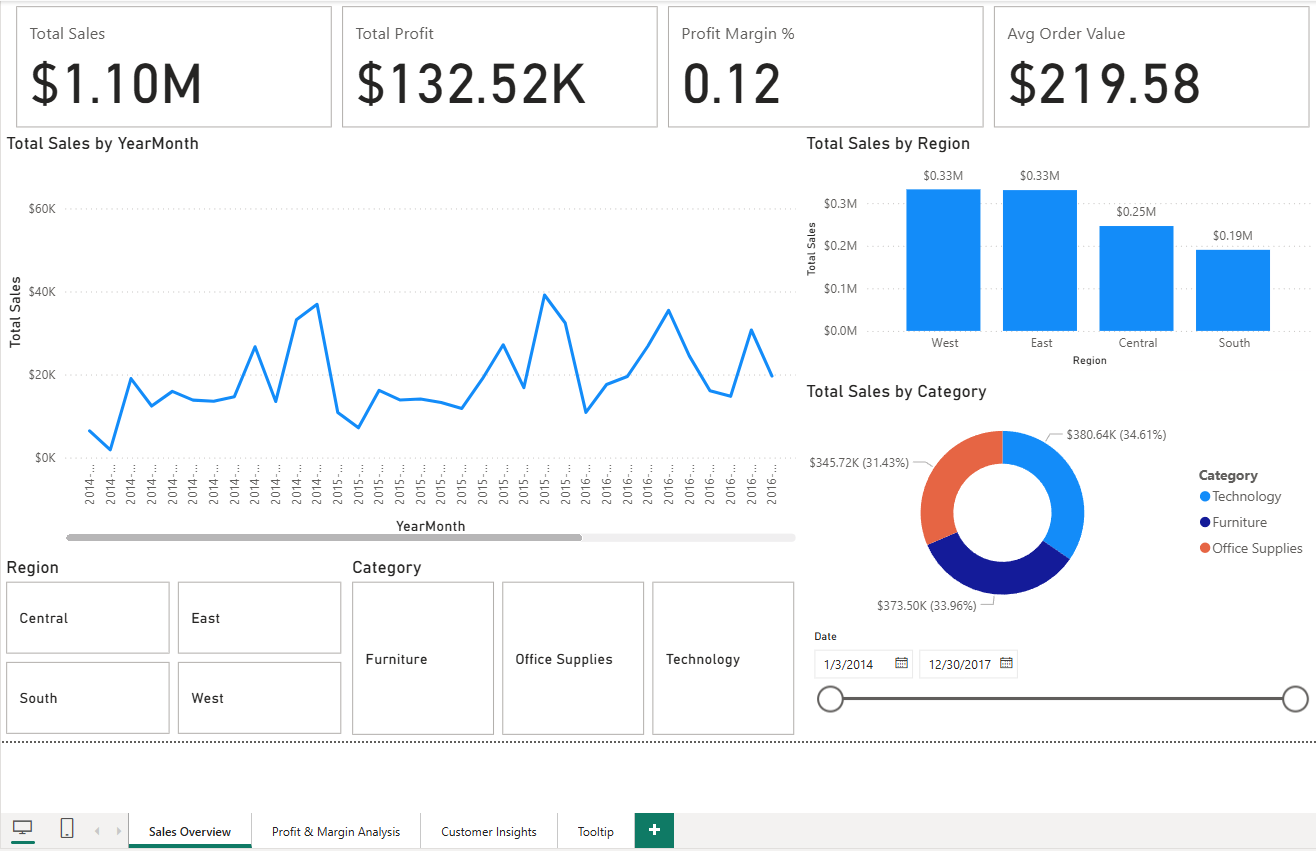

What the dashboard file says about the page in this screenshot:
{"tool":"powerbi","page":{"name":"Sales Overview","canvas":[1280,720],"ordinal":0},"visuals":[{"type":"cardVisual","fields":{"Data":["DateTable.Total Sales","DateTable.Total Profit","DateTable.Profit Margin %","DateTable.Avg Order Value"]},"box":[9.7,0,1270.3,128.4],"z":0},{"type":"lineChart","fields":{"Y":["DateTable.Total Sales"],"Category":["DateTable.YearMonth"]},"box":[0,128.4,778.1,402.7],"z":1000},{"type":"clusteredColumnChart","fields":{"Category":["superstore.Region"],"Y":["DateTable.Total Sales"]},"box":[778.1,128.4,501.9,231.5],"z":2000},{"type":"donutChart","fields":{"Category":["superstore.Category"],"Y":["DateTable.Total Sales"]},"box":[778.1,369.6,501.9,237.3],"z":3000},{"type":"advancedSlicerVisual","fields":{"Values":["superstore.Region"]},"box":[0,540.8,336.5,179],"z":4000},{"type":"advancedSlicerVisual","fields":{"Values":["superstore.Category"]},"box":[336.5,540.8,441.6,179],"z":5000},{"type":"slicer","fields":{"Values":["DateTable.Date"]},"box":[778.1,606.9,501.9,112.8],"z":6000}]}

Visuals, with their boxes on the page's 1280x720 design canvas (x1, y1, x2, y2). These are canvas units, not pixel positions in the 1316x851 screenshot, which may show the page scaled, cropped or inside an application window:
cardVisual - DateTable.Total Sales x DateTable.Total Profit: 10, 0, 1280, 128
lineChart - DateTable.Total Sales x DateTable.YearMonth: 0, 128, 778, 531
clusteredColumnChart - superstore.Region x DateTable.Total Sales: 778, 128, 1280, 360
donutChart - superstore.Category x DateTable.Total Sales: 778, 370, 1280, 607
advancedSlicerVisual - superstore.Region: 0, 541, 336, 720
advancedSlicerVisual - superstore.Category: 336, 541, 778, 720
slicer - DateTable.Date: 778, 607, 1280, 720
